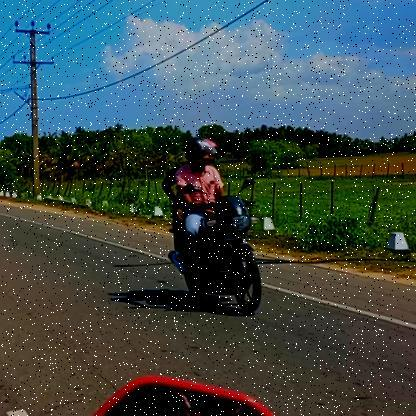motorcycle: (158, 194, 276, 323)
